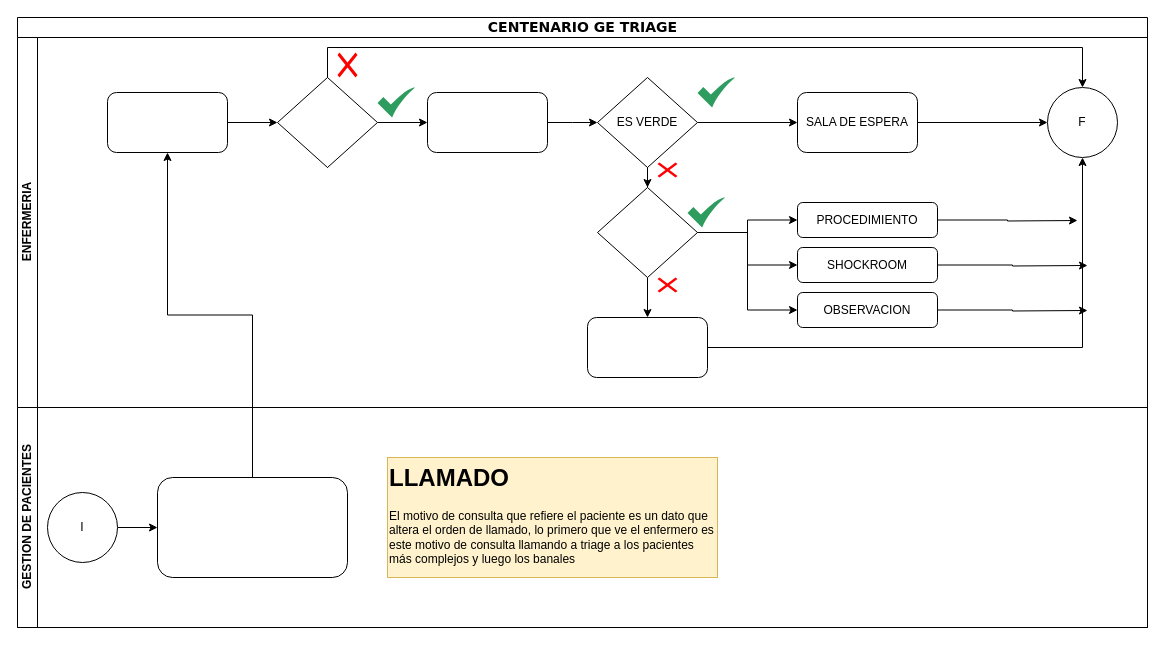
Some shapes in this 1165 by 645 pixel diagram are drawn without their labels. The shapes that lost their labels are listed below. From the top down, each one's box as (x1, y1, x2, y2) in pixels, then its label:
(106, 92, 228, 152): LLAMAR PACIENTE
(276, 76, 378, 168): ESTA PRESENTE
(426, 92, 548, 152): REALIZAR TRIAJE
(596, 186, 698, 278): ES AMARILLO
(586, 316, 708, 378): SHOCKROOM COLOR ROJO AVISAR MEDICO
(156, 476, 348, 578): RECEPCIONAR PACIENTES ANOTAR MOTIVO DE CONSULTA REFERIDO POR EL PACIENTE
